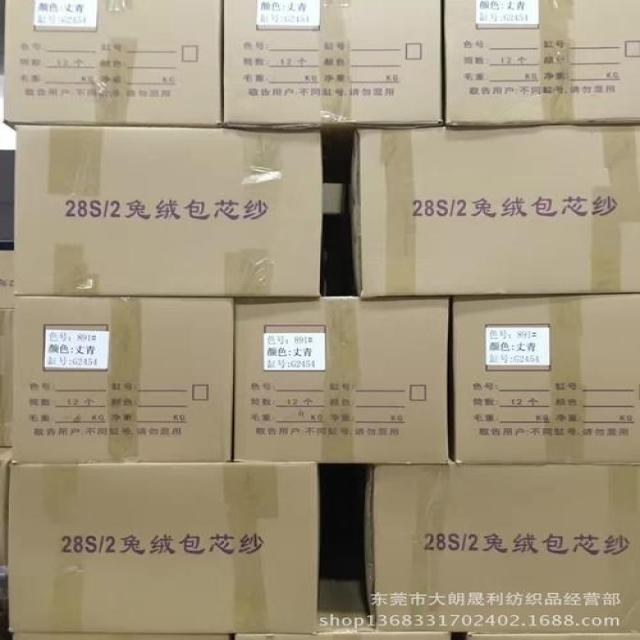box: (9, 462, 320, 634), (14, 126, 324, 297), (351, 123, 640, 297), (364, 463, 640, 633), (10, 296, 232, 462), (232, 297, 449, 465), (453, 293, 640, 463), (224, 0, 442, 129), (5, 0, 224, 126), (444, 0, 640, 129), (237, 580, 452, 640), (0, 249, 13, 447), (12, 631, 228, 640), (467, 631, 640, 640)
